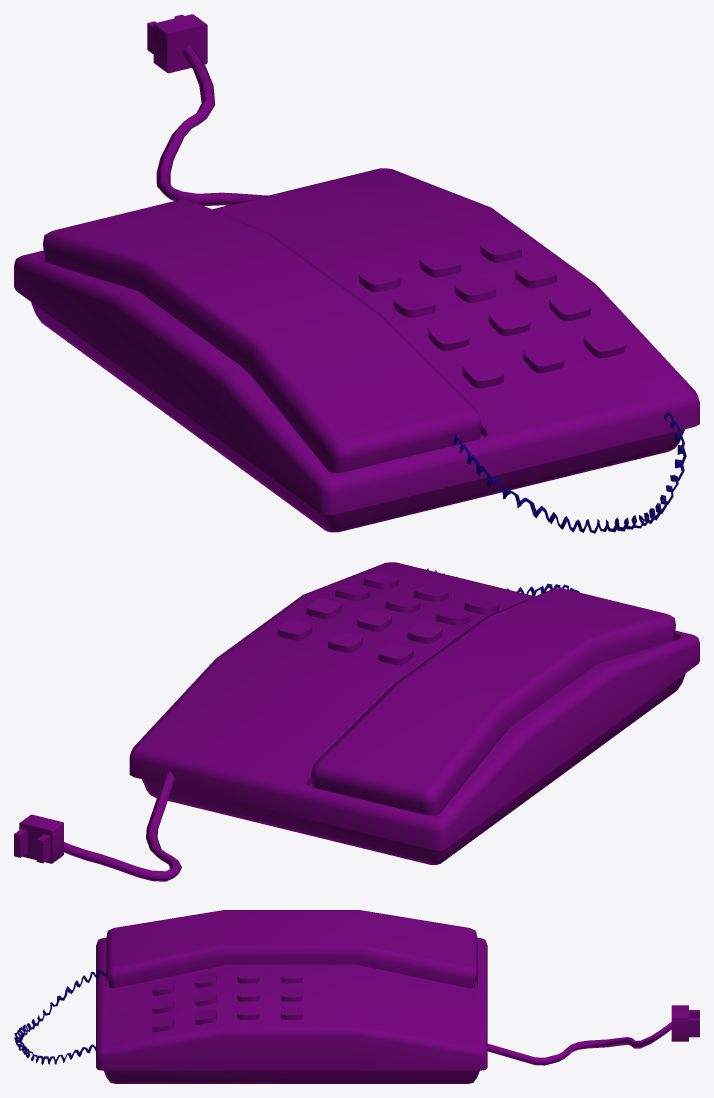
Rendered from SM_Phone.fbx.
3 views of the same model, one above another, from view 1: azimuth 30°, elevation 25°; view 2: azimuth 150°, elevation 25°; view 3: azimuth 270°, elevation 25° (orthographic). The views are drawn at different scales.
Parts seen in each view (by area): view 1: SM_Phone; view 2: SM_Phone; view 3: SM_Phone.
Boxes of the visible parts, bbox=[...] form: SM_Phone: bbox=[14, 14, 699, 533]; SM_Phone: bbox=[14, 562, 699, 881]; SM_Phone: bbox=[14, 910, 699, 1083].
Bounding box in the file's own units: 25 × 7.9 × 63.08.
